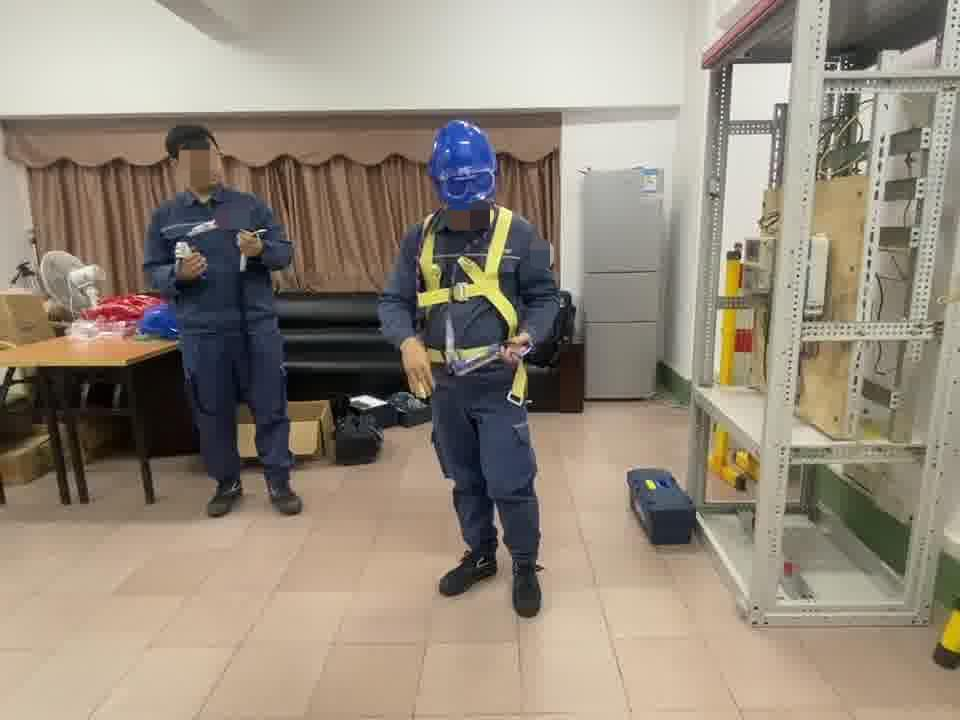halt: (429, 121, 502, 220)
noear: (169, 156, 196, 180)
unhalt: (167, 123, 227, 194)
